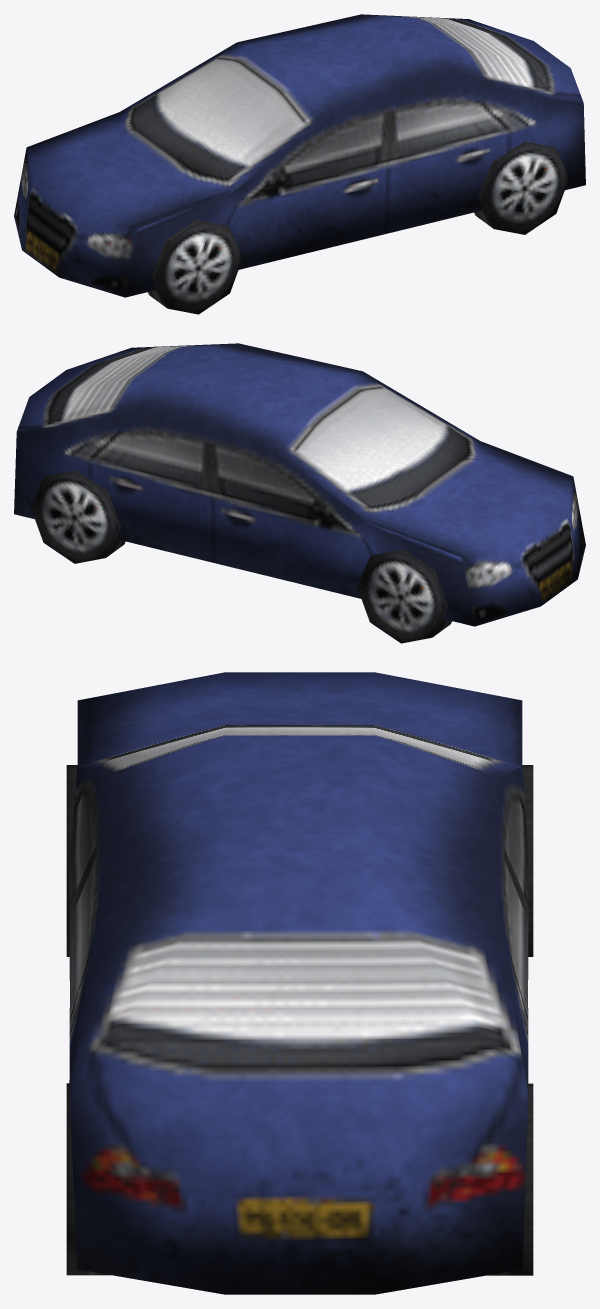
Rendered from car3.fbx.
3 views of the same model, one above another, from view 1: azimuth 30°, elevation 25°; view 2: azimuth 150°, elevation 25°; view 3: azimuth 270°, elevation 25° (orthographic). The views are drawn at different scales.
Parts seen in each view (by area): view 1: car3; view 2: car3; view 3: car3.
Part boxes in pixels (x1,y1,x2,y2): car3: [14, 14, 585, 314]; car3: [14, 343, 585, 643]; car3: [66, 672, 533, 1294].
Size of the model in its own units: 467 by 183 by 152.
1 material, 1 textured.
